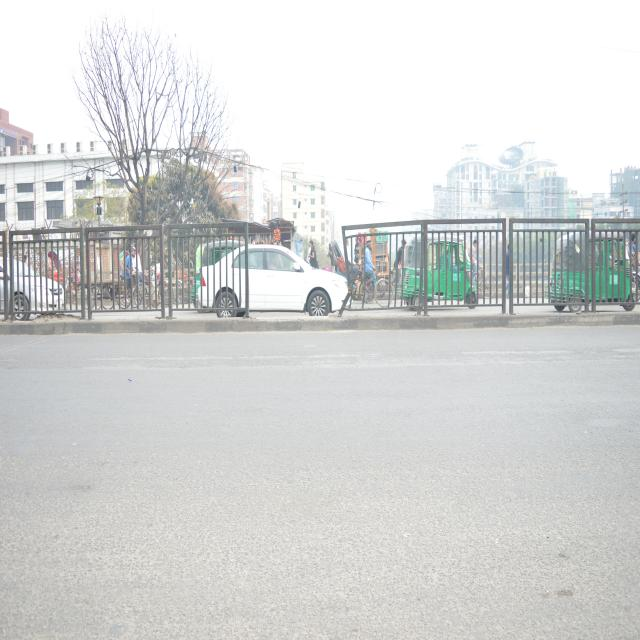car: (197, 237, 349, 324), (0, 245, 66, 331)
